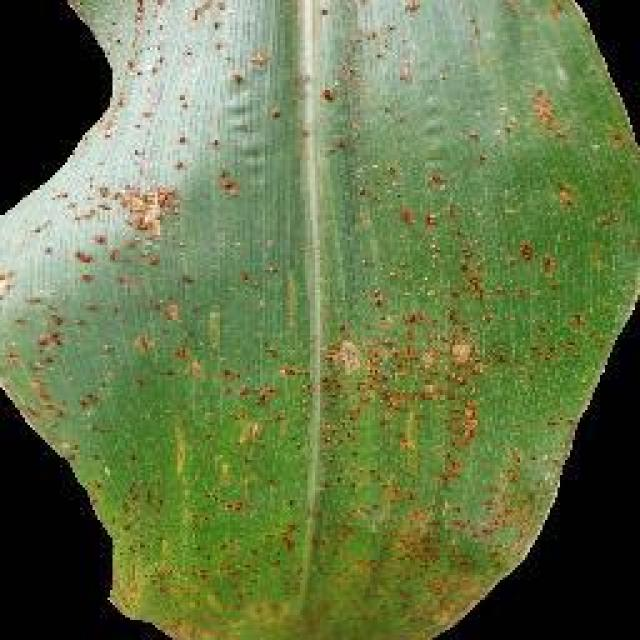Corn Common Rust: (72, 30, 555, 582)
